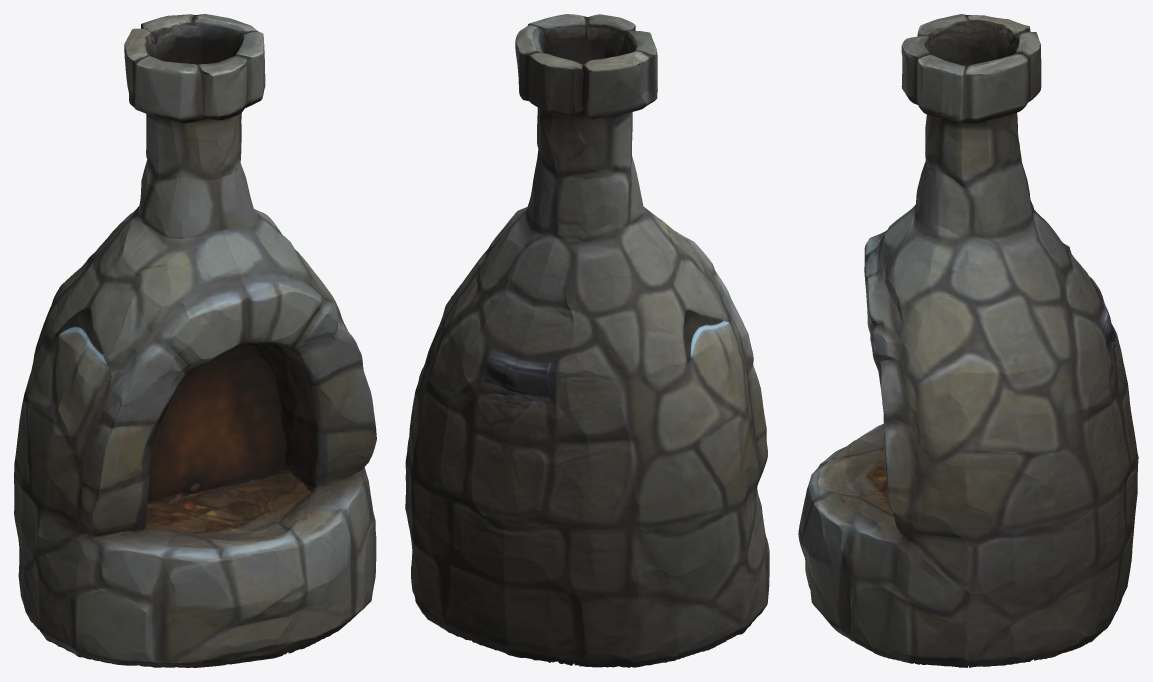
Rendered from Oven.fbx.
3 views of the same model, side by side, from view 1: azimuth 30°, elevation 25°; view 2: azimuth 150°, elevation 25°; view 3: azimuth 270°, elevation 25° (orthographic).
Visible parts, largest first — view 1: temp; view 2: temp; view 3: temp.
Boxes of the visible parts, left/top/right/bottom form: temp: left=14, top=14, right=376, bottom=667; temp: left=405, top=14, right=769, bottom=667; temp: left=798, top=14, right=1138, bottom=667.
Bounding box in the file's own units: 119 × 200 × 111.
1 material, 1 textured.
